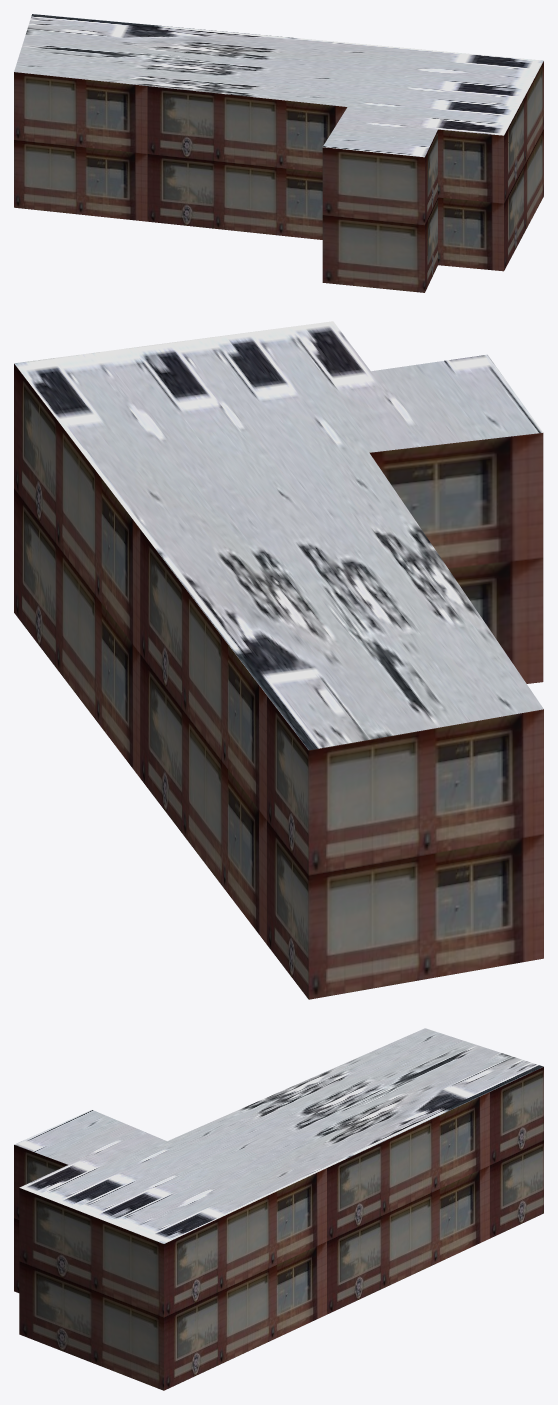
The model's file is ResTex__4855.fbx.
3 renders of one model, top to bottom at view 1: azimuth 30°, elevation 25°; view 2: azimuth 150°, elevation 25°; view 3: azimuth 270°, elevation 25°, orthographic. The views are drawn at different scales.
Parts seen in each view (by area): view 1: CityEngineMaterial_13_m, CityEngineMaterial_2_m; view 2: CityEngineMaterial_13_m, CityEngineMaterial_2_m; view 3: CityEngineMaterial_13_m, CityEngineMaterial_2_m.
Part boxes in pixels (left/top/right/bottom): CityEngineMaterial_13_m: left=14, top=61, right=543, bottom=292; CityEngineMaterial_2_m: left=14, top=14, right=543, bottom=157; CityEngineMaterial_13_m: left=14, top=364, right=543, bottom=999; CityEngineMaterial_2_m: left=14, top=321, right=543, bottom=750; CityEngineMaterial_13_m: left=14, top=1067, right=543, bottom=1390; CityEngineMaterial_2_m: left=14, top=1028, right=543, bottom=1243.
Size of the model in its own units: 18.94 by 6 by 19.65.
Materials: 2 (2 with a texture image).
